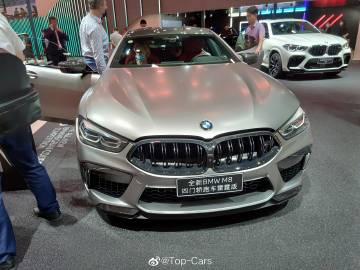other: (73, 18, 309, 225), (238, 14, 349, 75)
